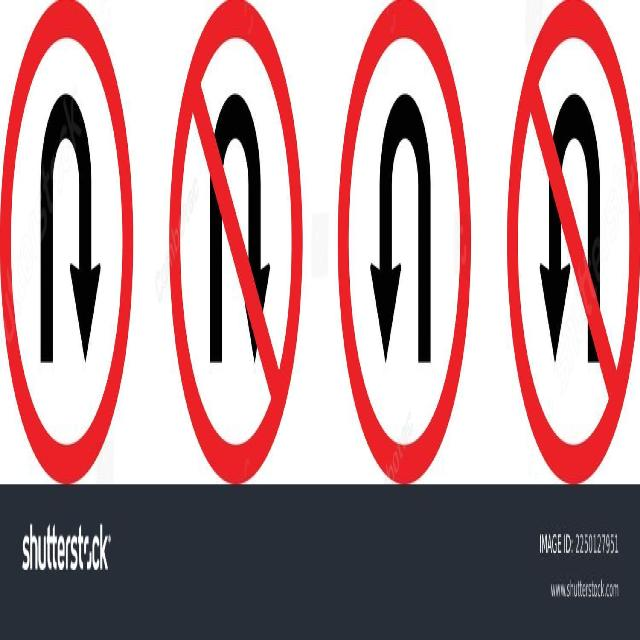Demi-Tour-Interdit: (169, 10, 302, 478), (507, 10, 636, 483)
